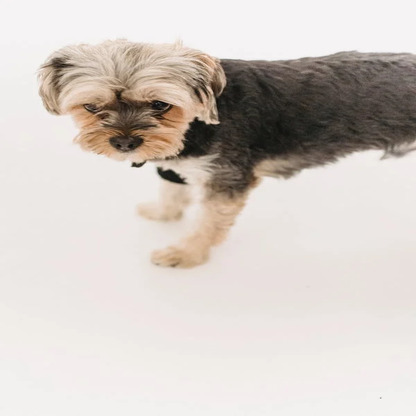yorkshire: (37, 37, 416, 268)
